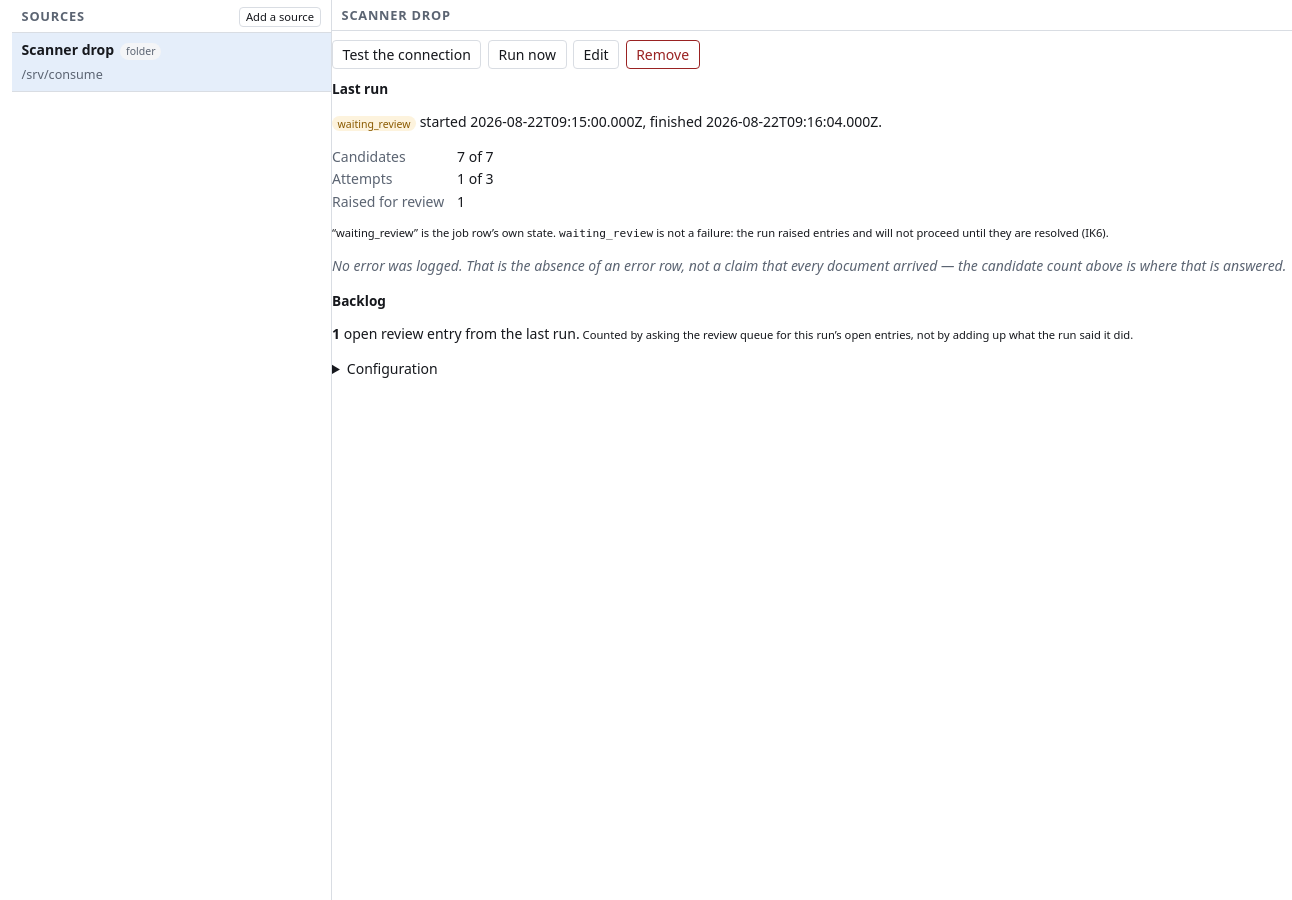
it: the sources screen › tests the connection and lists every check it ran
The width and height of the screenshot is (1292, 900).
expect the element with test id "source-detail" is shown: met, box x1=332 y1=40 x2=1291 y2=379
Click the button "Test the connection": (407, 55) x1=332 y1=40 x2=481 y2=69
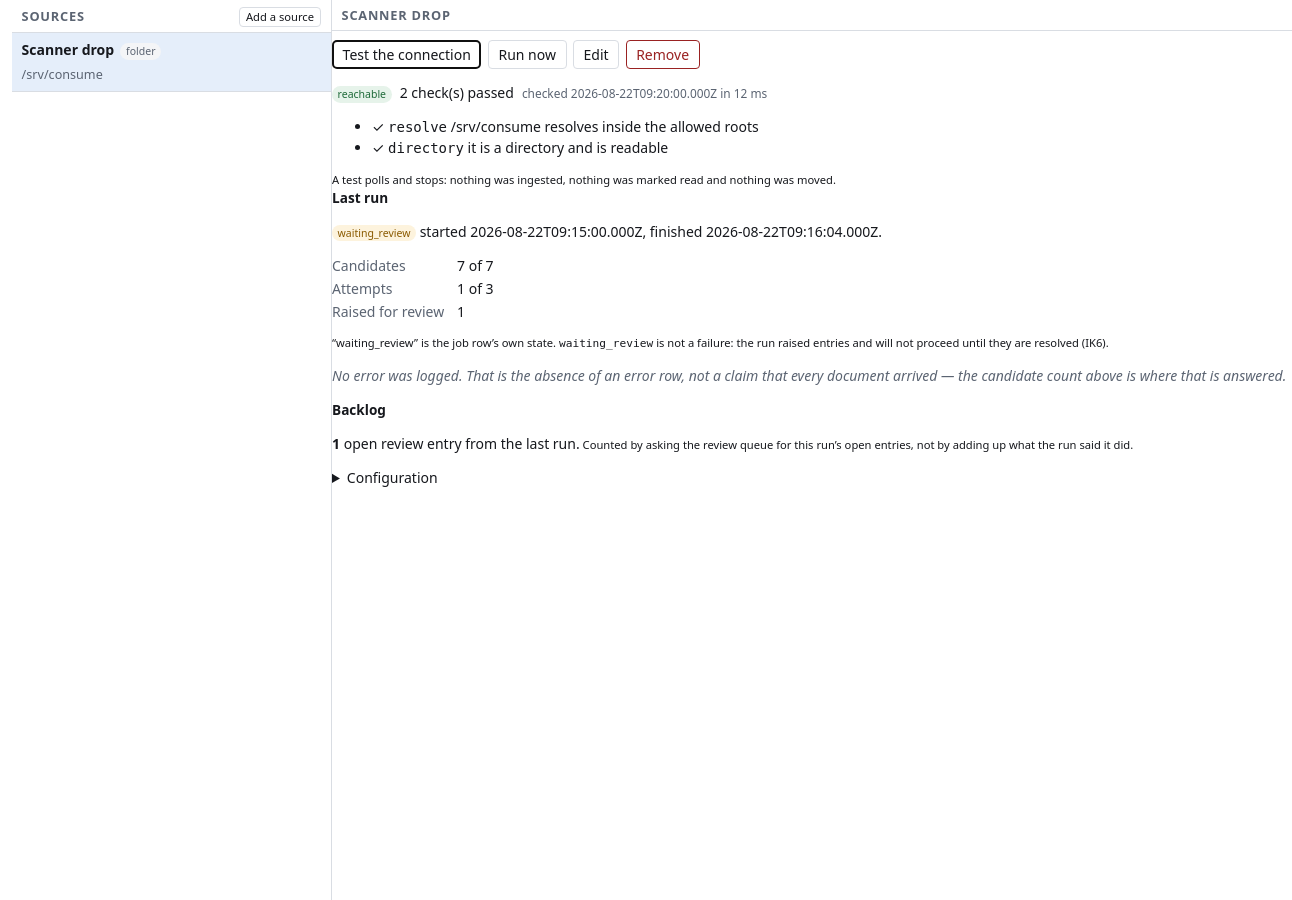
expect the list with test id "test-checks" shows "resolve": met, box x1=388 y1=119 x2=447 y2=135
expect the list with test id "test-checks" shows "directory": met, box x1=388 y1=140 x2=464 y2=156
expect the message with test id "test-result" shows "nothing was ingested": met, box x1=332 y1=172 x2=836 y2=187
